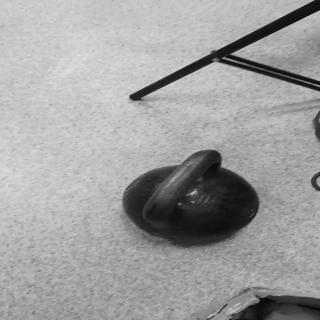kettlebell: (123, 150, 265, 239)
